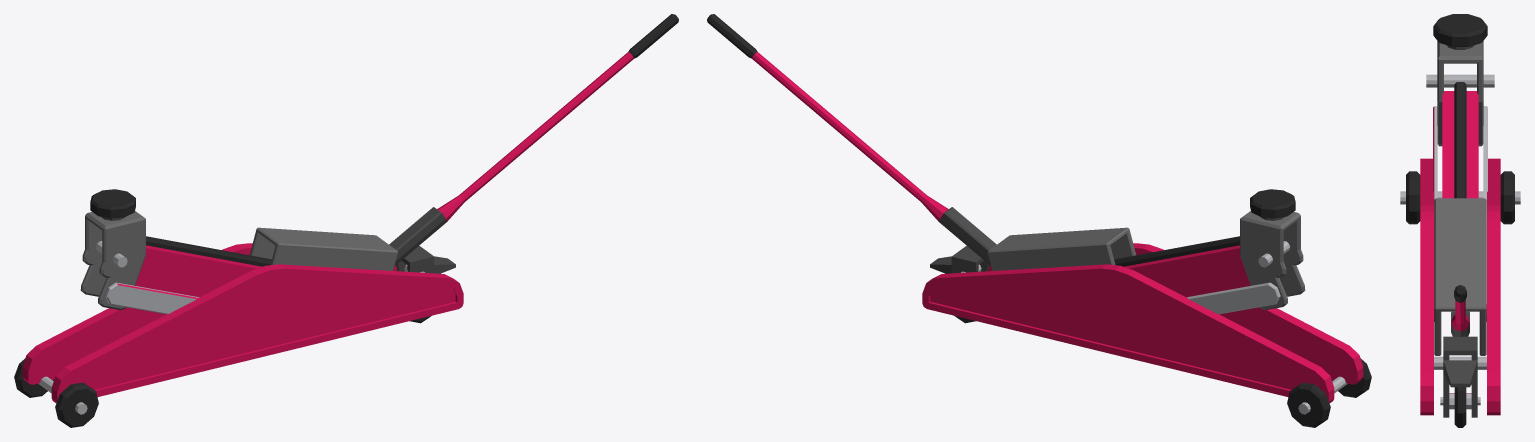
The model's file is Heaver.fbx.
3 views of the same model, side by side, from view 1: azimuth 30°, elevation 25°; view 2: azimuth 150°, elevation 25°; view 3: azimuth 270°, elevation 25° (orthographic). The views are drawn at different scales.
Visible parts, largest first — view 1: Heaver, Heaver_arm; view 2: Heaver, Heaver_arm; view 3: Heaver, Heaver_arm.
Boxes of the visible parts, x1=… form: Heaver: x1=14, y1=189, x2=463, y2=427; Heaver_arm: x1=389, y1=14, x2=678, y2=266; Heaver: x1=922, y1=189, x2=1371, y2=427; Heaver_arm: x1=707, y1=14, x2=996, y2=266; Heaver: x1=1400, y1=14, x2=1520, y2=427; Heaver_arm: x1=1451, y1=285, x2=1469, y2=337.
Bounding box in the file's own units: 167 × 61.23 × 23.46.
